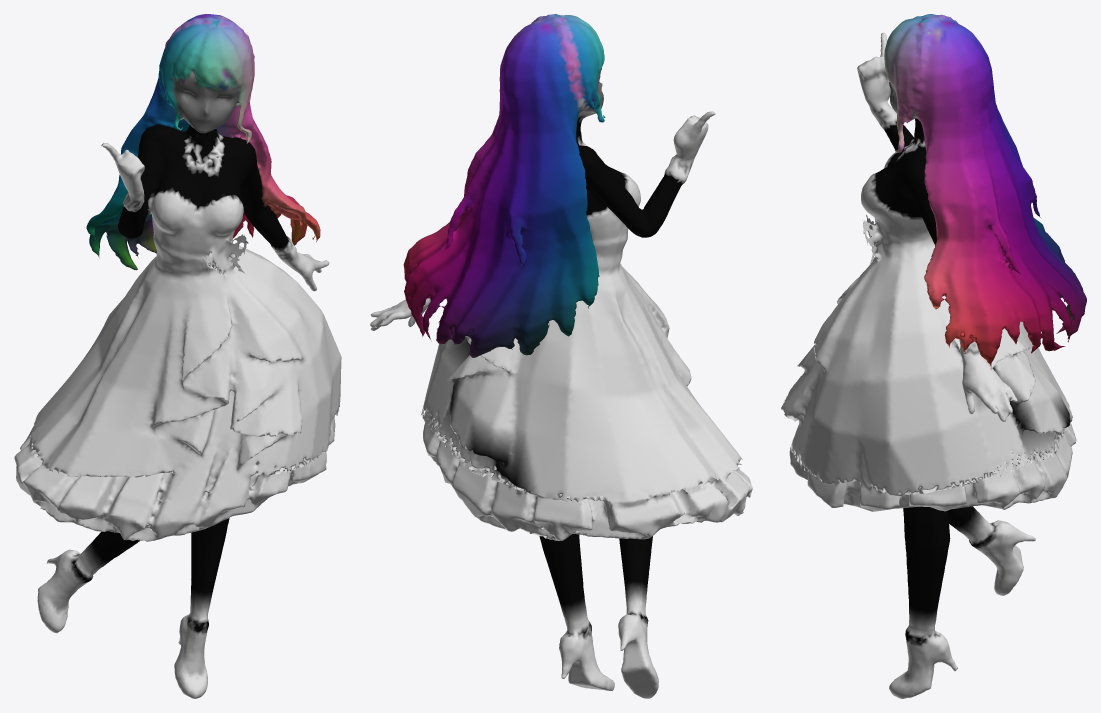
Rendered from SK_Cartoon_32_H.fbx.
3 views of the same model, side by side, from view 1: azimuth 30°, elevation 25°; view 2: azimuth 150°, elevation 25°; view 3: azimuth 270°, elevation 25° (orthographic). The views are drawn at different scales.
Visible parts, largest first — view 1: SK_Cartoon_Female_0320; view 2: SK_Cartoon_Female_0320; view 3: SK_Cartoon_Female_0320.
Part boxes in pixels (<box>): SK_Cartoon_Female_0320: <box>14,14,341,698</box>; SK_Cartoon_Female_0320: <box>370,14,752,698</box>; SK_Cartoon_Female_0320: <box>781,14,1086,698</box>.
Size of the model in its own units: 89.33 by 169 by 67.8.
